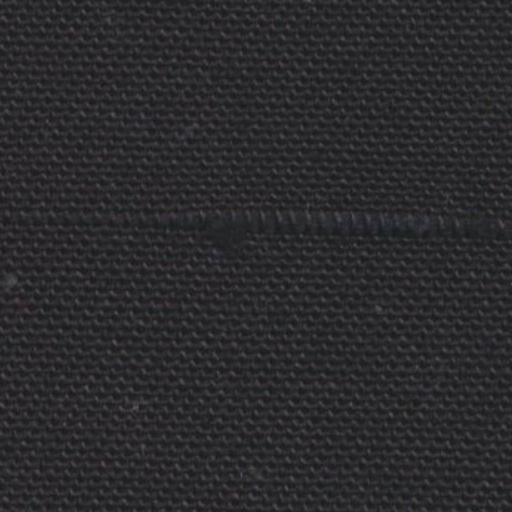DaiSha: (178, 188, 469, 251)
